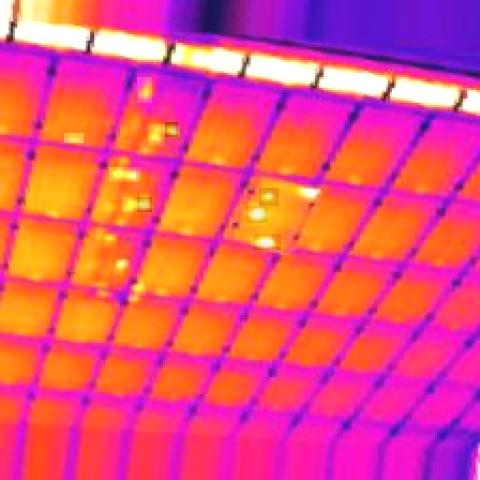fault: (110, 167, 142, 182), (297, 184, 322, 202), (253, 234, 281, 250), (137, 77, 152, 103), (246, 206, 268, 223), (148, 124, 165, 146), (259, 188, 279, 206), (208, 152, 229, 165), (112, 255, 128, 272), (345, 174, 364, 186), (137, 197, 152, 212), (130, 283, 146, 296), (64, 133, 84, 143), (165, 122, 178, 137), (122, 197, 133, 212)
